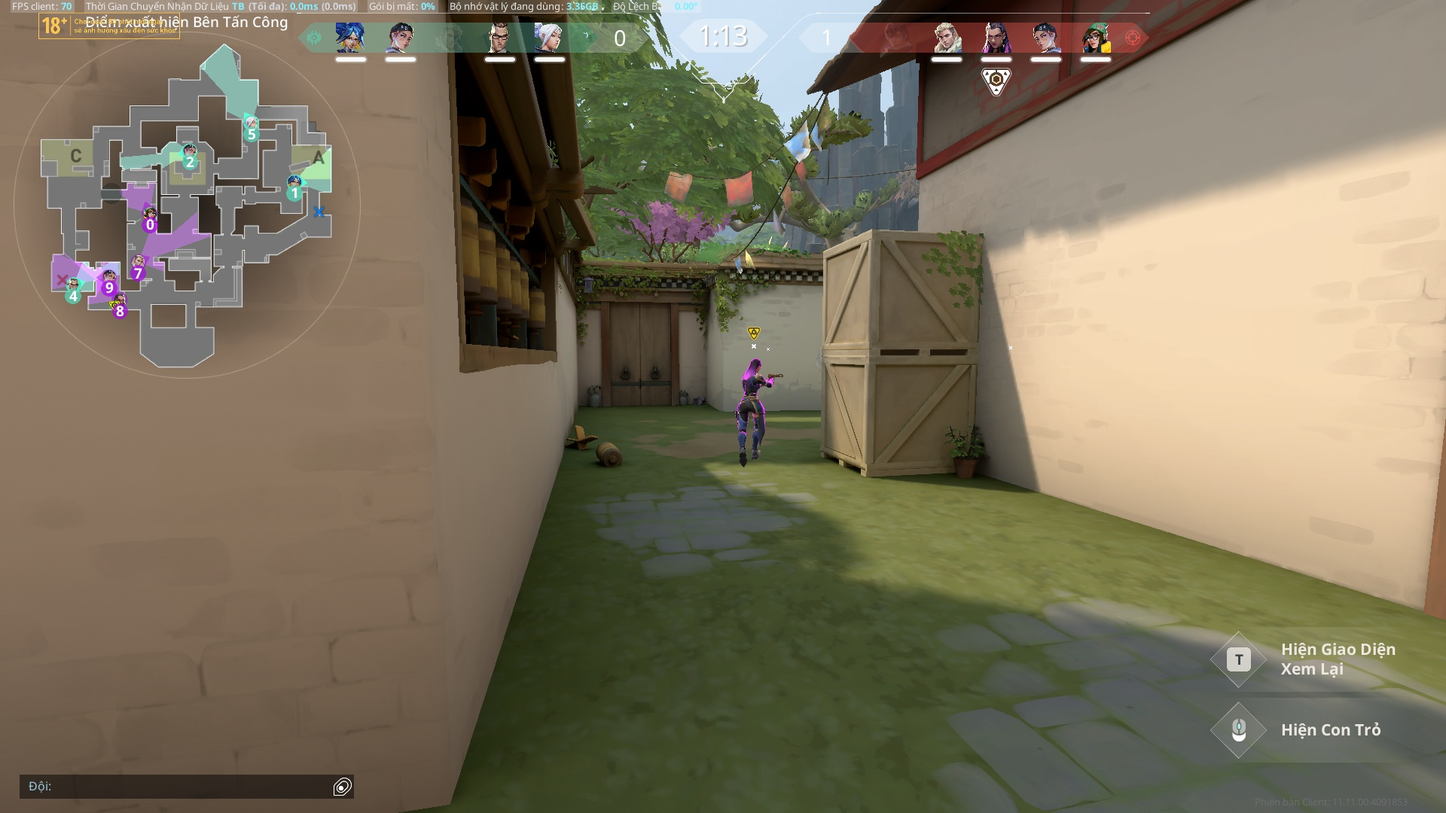body: (739, 370, 764, 393)
head: (750, 358, 762, 373)
